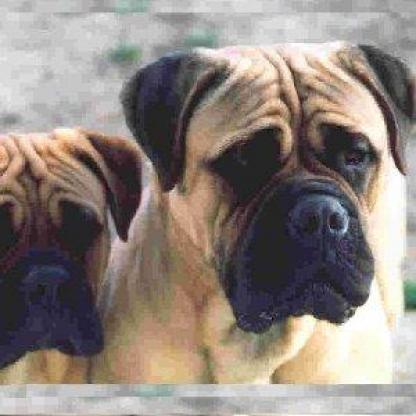bull_mastiff: (103, 40, 413, 382), (0, 123, 146, 387)
